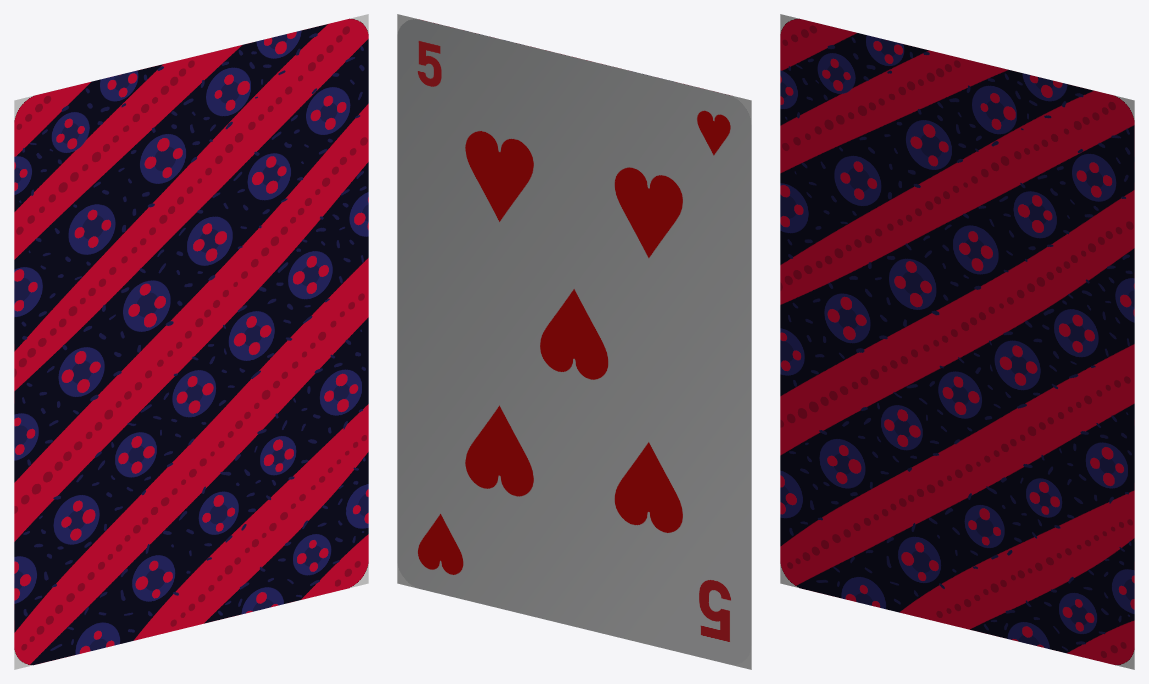
File: 5 Heart.fbx
3 views of the same model, side by side, from view 1: azimuth 30°, elevation 25°; view 2: azimuth 150°, elevation 25°; view 3: azimuth 330°, elevation 25° (orthographic).
Visible parts, largest first — view 1: pPlane1; view 2: pPlane2; view 3: pPlane1.
Boxes of the visible parts, left/top/right/bottom form: pPlane1: left=14, top=14, right=368, bottom=669; pPlane2: left=397, top=14, right=751, bottom=669; pPlane1: left=780, top=14, right=1134, bottom=669.
Bounding box in the file's own units: 2.15 × 3.3 × 0.001.
2 materials, 2 textured.
